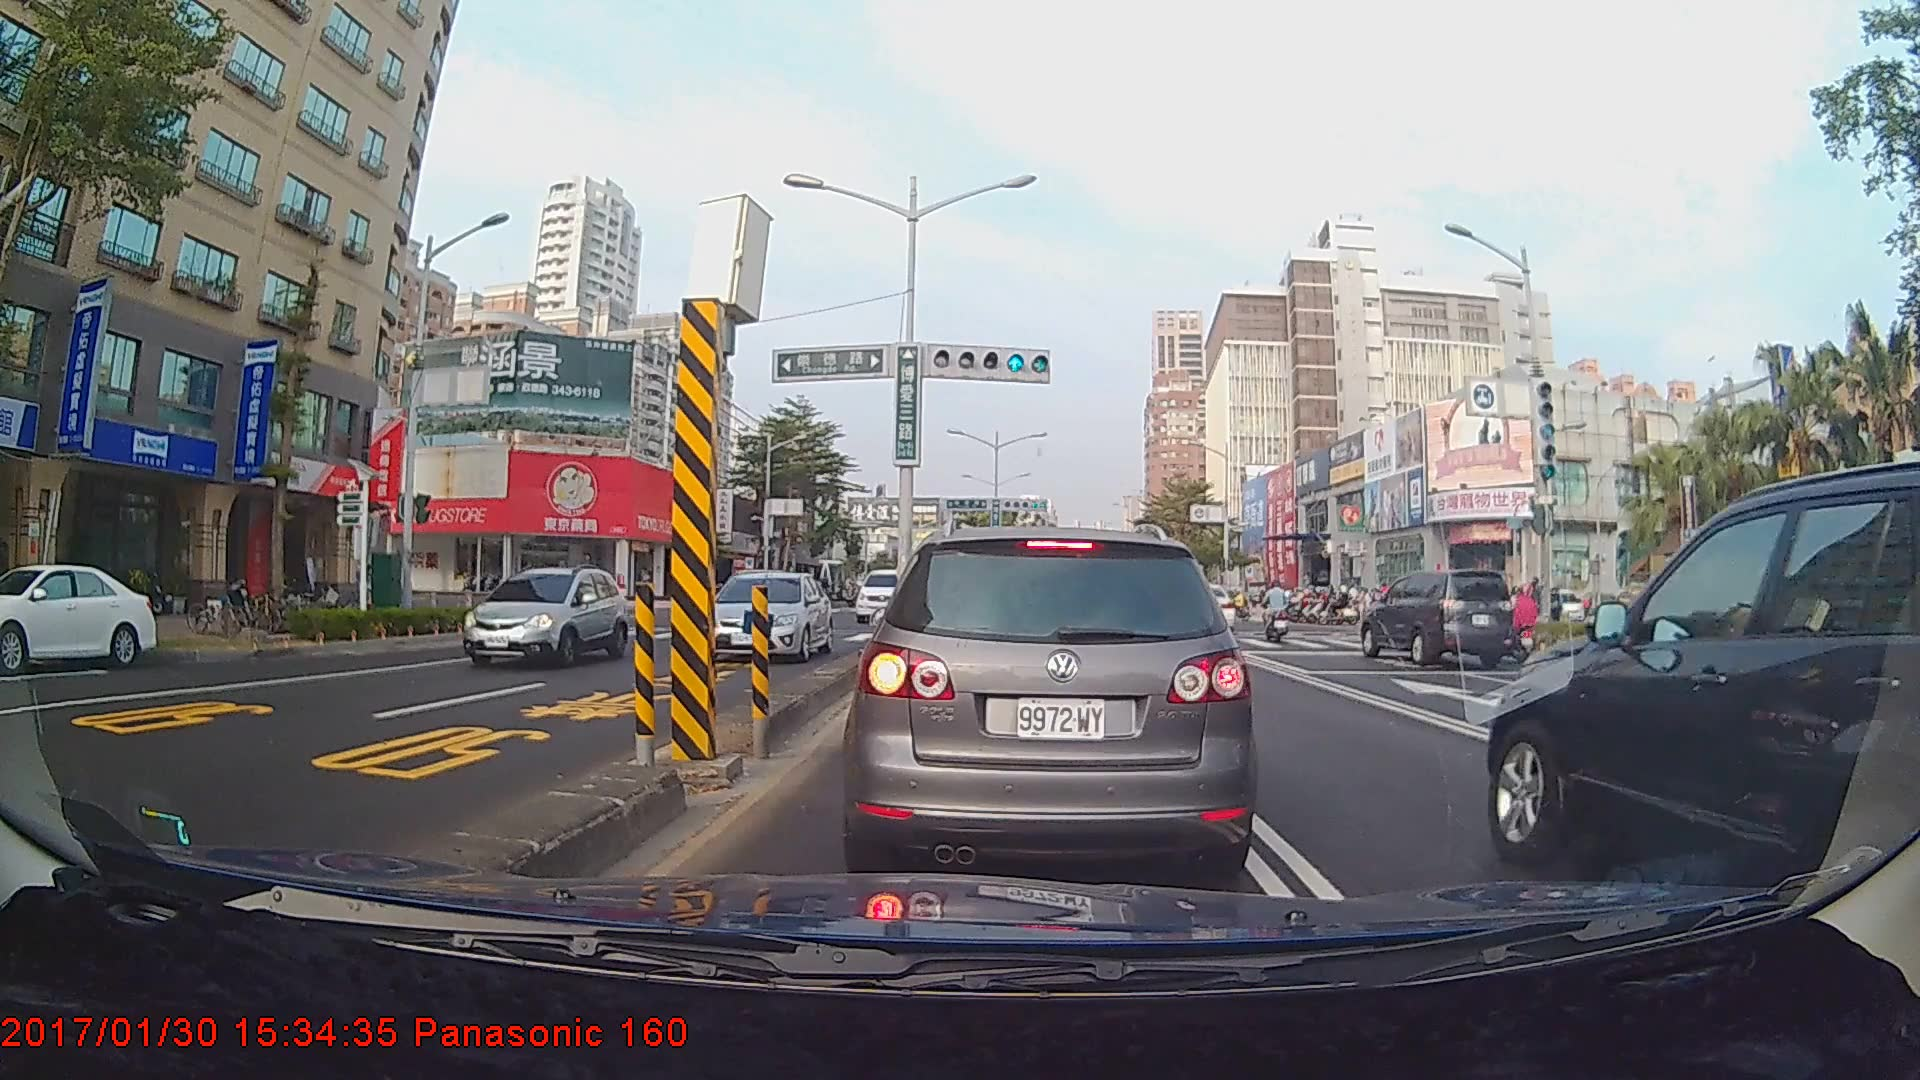rider: (1259, 578, 1301, 643)
vehicle: (1494, 456, 1920, 985), (857, 524, 1248, 878), (0, 561, 157, 671), (461, 563, 625, 668), (1357, 567, 1514, 667), (696, 567, 833, 662), (853, 566, 915, 625)
